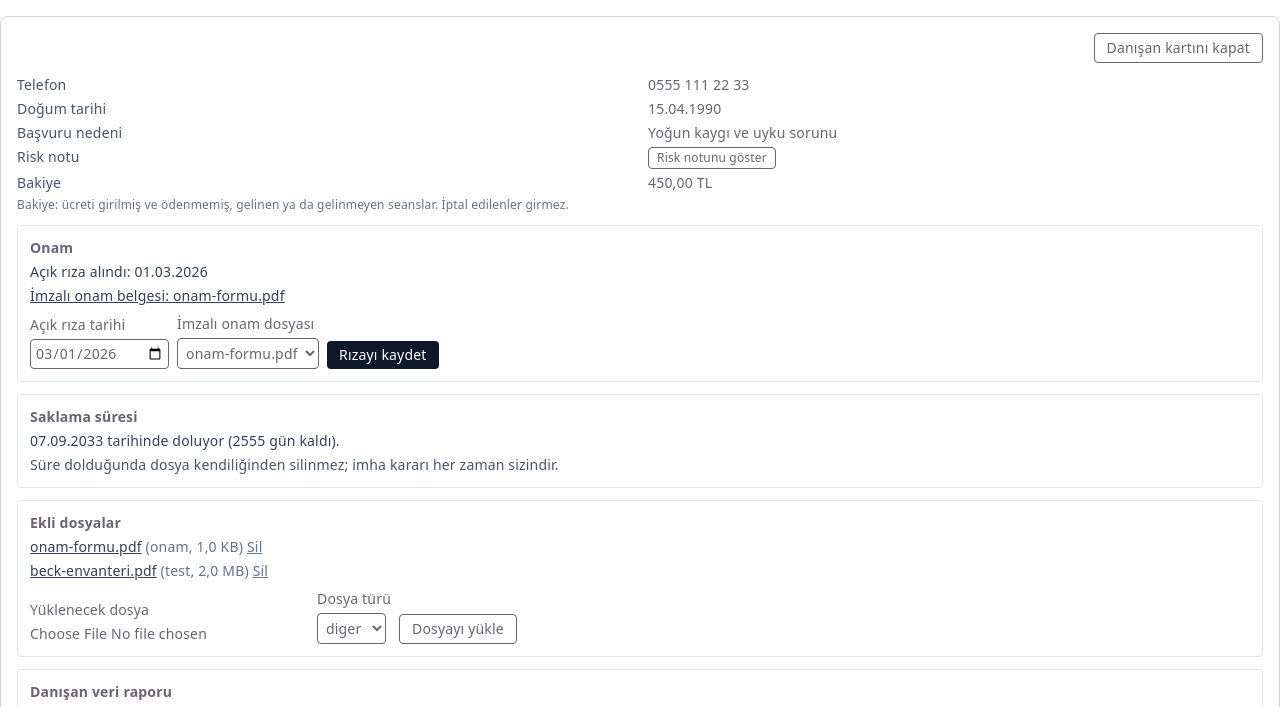
Scenario: DosyaBilgileri — ekli dosyalar › dosya secilmeden yukleme yapilmaz
Click the button "Dosyayı yükle".
click(458, 629)  # box [399,614,517,644]
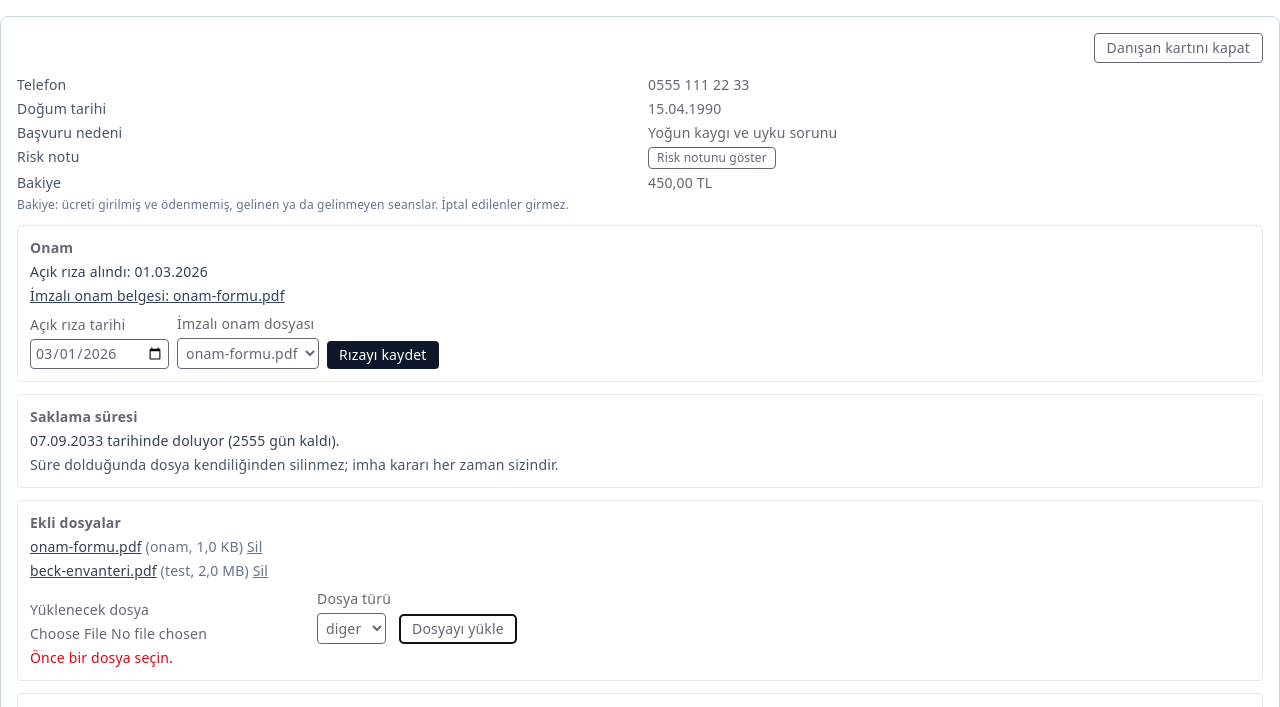
Check: the text "Önce bir dosya seçin." is shown, box [30,648,173,667]
